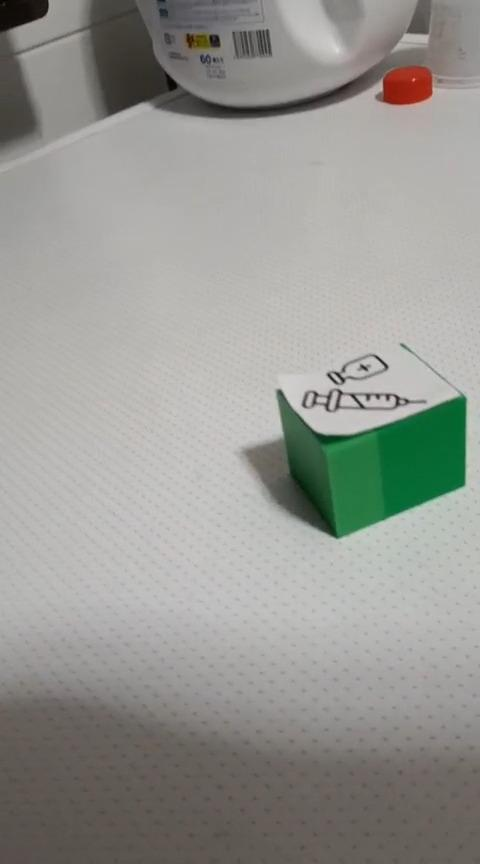antiseptic cream: (273, 340, 467, 538)
